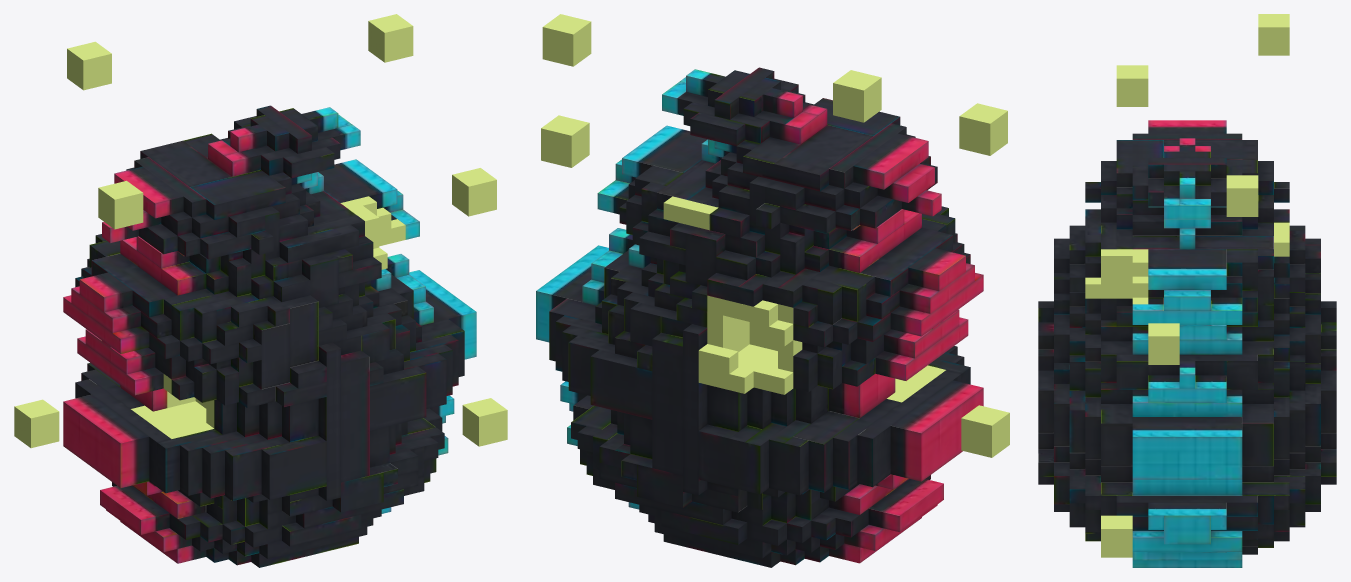
Rendered from glitch.glb.
3 views of the same model, side by side, from view 1: azimuth 30°, elevation 25°; view 2: azimuth 150°, elevation 25°; view 3: azimuth 270°, elevation 25° (orthographic). The views are drawn at different scales.
Parts seen in each view (by area): view 1: Body.006, Glow.003; view 2: Body.006, Glow.003; view 3: Body.006, Glow.003.
Boxes of the visible parts, x1=… form: Body.006: x1=63, y1=105, x2=476, y2=567; Glow.003: x1=14, y1=14, x2=507, y2=448; Body.006: x1=536, y1=67, x2=983, y2=567; Glow.003: x1=541, y1=14, x2=1009, y2=457; Body.006: x1=1038, y1=120, x2=1336, y2=567; Glow.003: x1=1085, y1=14, x2=1289, y2=557.
Size of the model in its own units: 4.65 by 4.65 by 2.85.
2 materials, 1 textured.
